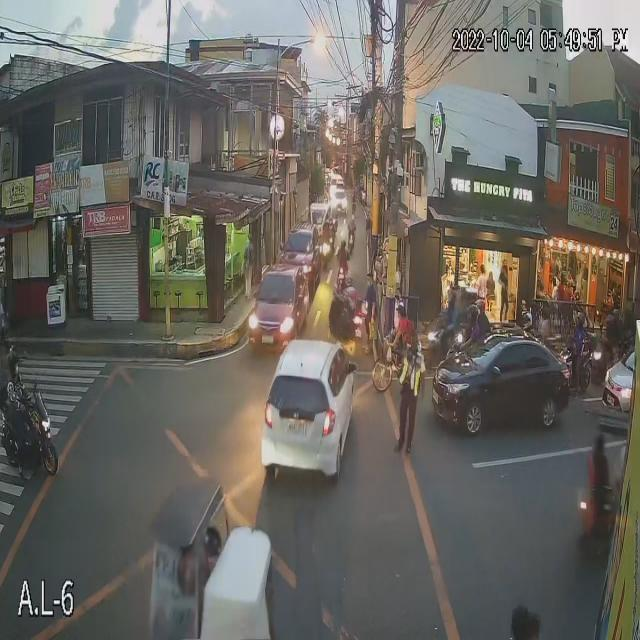helmet: (8, 346, 28, 387), (570, 309, 590, 328), (522, 310, 534, 329), (466, 305, 478, 323), (344, 270, 353, 288), (338, 237, 349, 251), (476, 296, 484, 314), (350, 211, 356, 221)
motorcycle: (0, 389, 57, 481), (554, 342, 596, 396), (325, 302, 362, 349), (330, 263, 356, 291), (346, 232, 358, 254)
rider: (5, 338, 30, 436), (464, 305, 490, 348), (569, 309, 588, 354), (342, 271, 360, 315), (518, 304, 536, 338), (337, 236, 352, 268), (477, 294, 488, 335), (348, 212, 357, 231)
